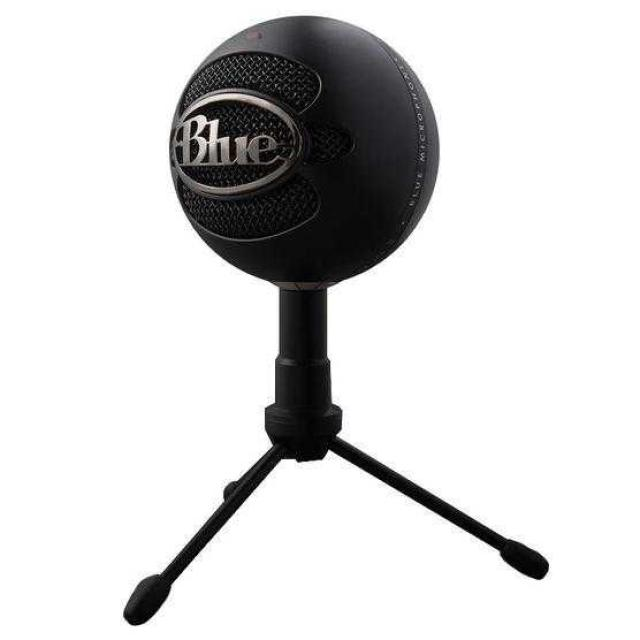microphone: (120, 21, 544, 623)
